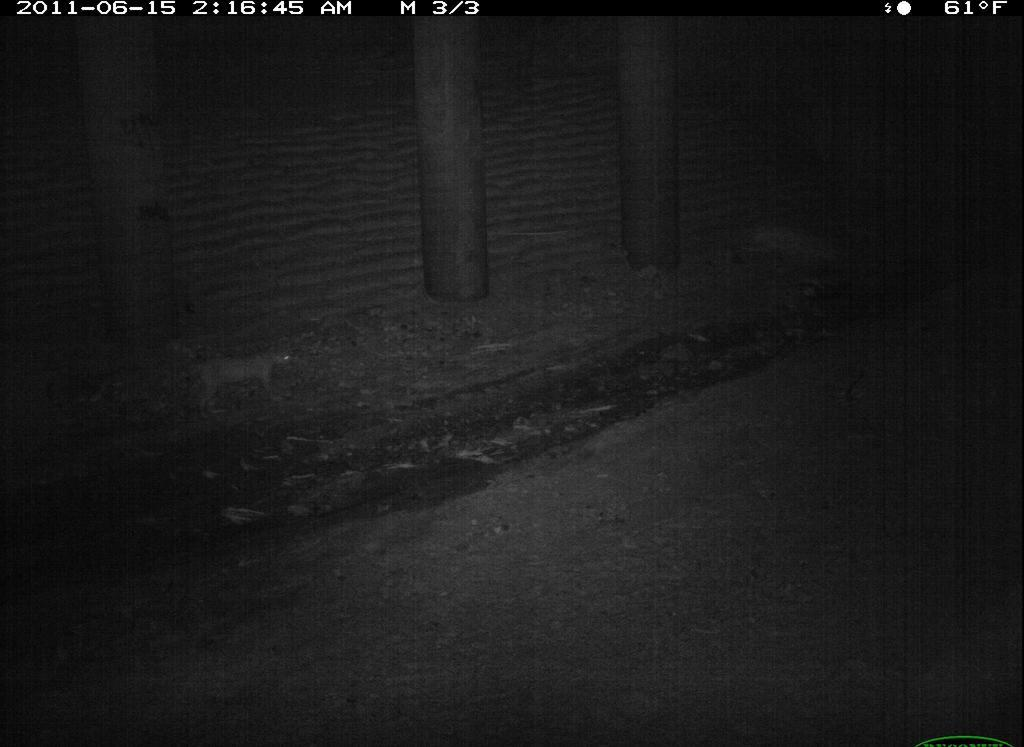bobcat: (361, 671, 602, 747)
